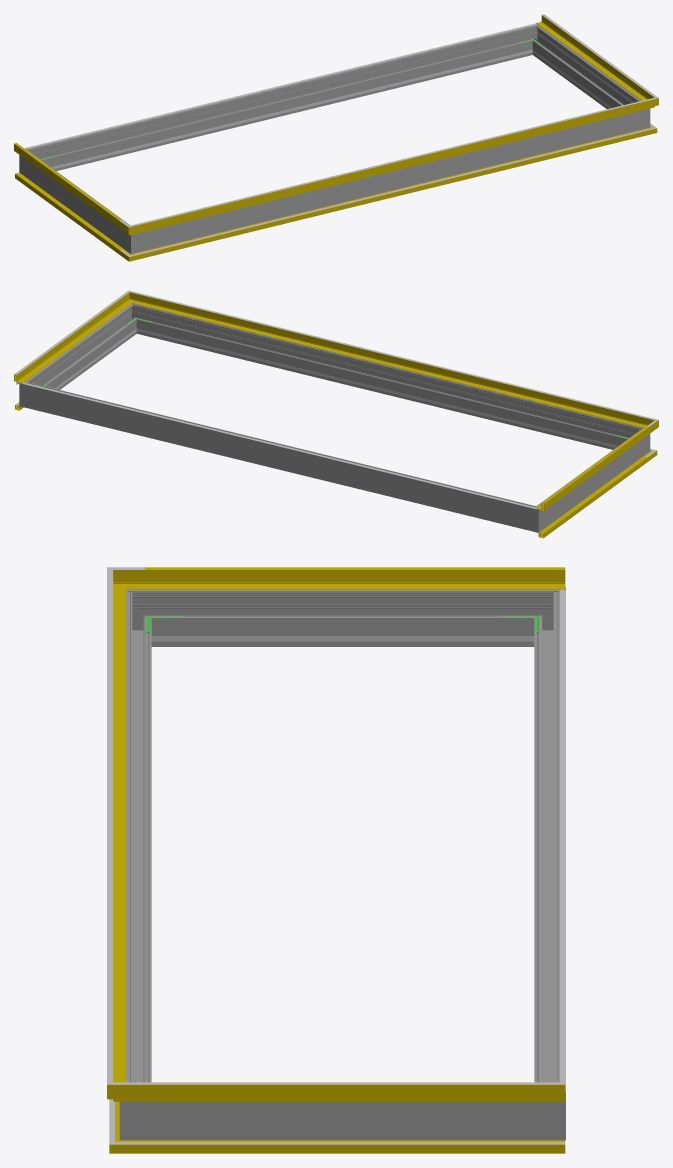
3 renders of one model, top to bottom at view 1: azimuth 30°, elevation 25°; view 2: azimuth 150°, elevation 25°; view 3: azimuth 270°, elevation 25°, orthographic. The views are drawn at different scales.
Parts seen in each view (by area): view 1: 3DGeom-276, 3DGeom-298, 3DGeom-56, 3DGeom-11, 3DGeom-297, 3DGeom-268, 3DGeom-244, 3DGeom-58, 3DGeom-220, 3DGeom-66, 3DGeom-20, 3DGeom-50 (+3 smaller); view 2: 3DGeom-298, 3DGeom-276, 3DGeom-56, 3DGeom-297, 3DGeom-268, 3DGeom-239, 3DGeom-58, 3DGeom-220, 3DGeom-66, 3DGeom-50, 3DGeom-6, 3DGeom-278 (+2 smaller); view 3: 3DGeom-268, 3DGeom-297, 3DGeom-276, 3DGeom-298, 3DGeom-50, 3DGeom-58, 3DGeom-56, 3DGeom-16, 3DGeom-220, 3DGeom-66, 3DGeom-232, 3DGeom-290 (+6 smaller).
Boxes of the visible parts, bbox=[...] form: 3DGeom-276: bbox=[37, 28, 529, 170]; 3DGeom-298: bbox=[147, 112, 633, 249]; 3DGeom-56: bbox=[143, 102, 642, 231]; 3DGeom-11: bbox=[143, 130, 640, 257]; 3DGeom-297: bbox=[534, 30, 637, 108]; 3DGeom-268: bbox=[29, 155, 126, 246]; 3DGeom-244: bbox=[57, 53, 516, 168]; 3DGeom-58: bbox=[536, 15, 646, 99]; 3DGeom-220: bbox=[24, 23, 536, 149]; 3DGeom-66: bbox=[144, 101, 641, 223]; 3DGeom-20: bbox=[144, 131, 639, 252]; 3DGeom-50: bbox=[14, 144, 118, 227]; 3DGeom-298: bbox=[139, 306, 631, 449]; 3DGeom-276: bbox=[36, 385, 524, 528]; 3DGeom-56: bbox=[140, 296, 640, 426]; 3DGeom-297: bbox=[31, 309, 135, 389]; 3DGeom-268: bbox=[543, 434, 640, 525]; 3DGeom-239: bbox=[152, 332, 612, 446]; 3DGeom-58: bbox=[14, 298, 127, 384]; 3DGeom-220: bbox=[22, 382, 536, 508]; 3DGeom-66: bbox=[144, 294, 641, 416]; 3DGeom-50: bbox=[536, 427, 649, 512]; 3DGeom-6: bbox=[538, 456, 647, 538]; 3DGeom-278: bbox=[522, 501, 548, 532]; 3DGeom-268: bbox=[158, 589, 527, 646]; 3DGeom-297: bbox=[158, 1102, 527, 1140]; 3DGeom-276: bbox=[534, 603, 559, 1082]; 3DGeom-298: bbox=[126, 603, 151, 1082]; 3DGeom-50: bbox=[145, 570, 565, 589]; 3DGeom-58: bbox=[145, 1084, 565, 1101]; 3DGeom-56: bbox=[113, 583, 125, 1082]; 3DGeom-16: bbox=[147, 1140, 565, 1153]; 3DGeom-220: bbox=[560, 589, 565, 1091]; 3DGeom-66: bbox=[107, 583, 112, 1068]; 3DGeom-232: bbox=[188, 636, 497, 641]; 3DGeom-290: bbox=[119, 1077, 157, 1140].
Size of the model in its own units: 4.88 by 0.307 by 1.83.
